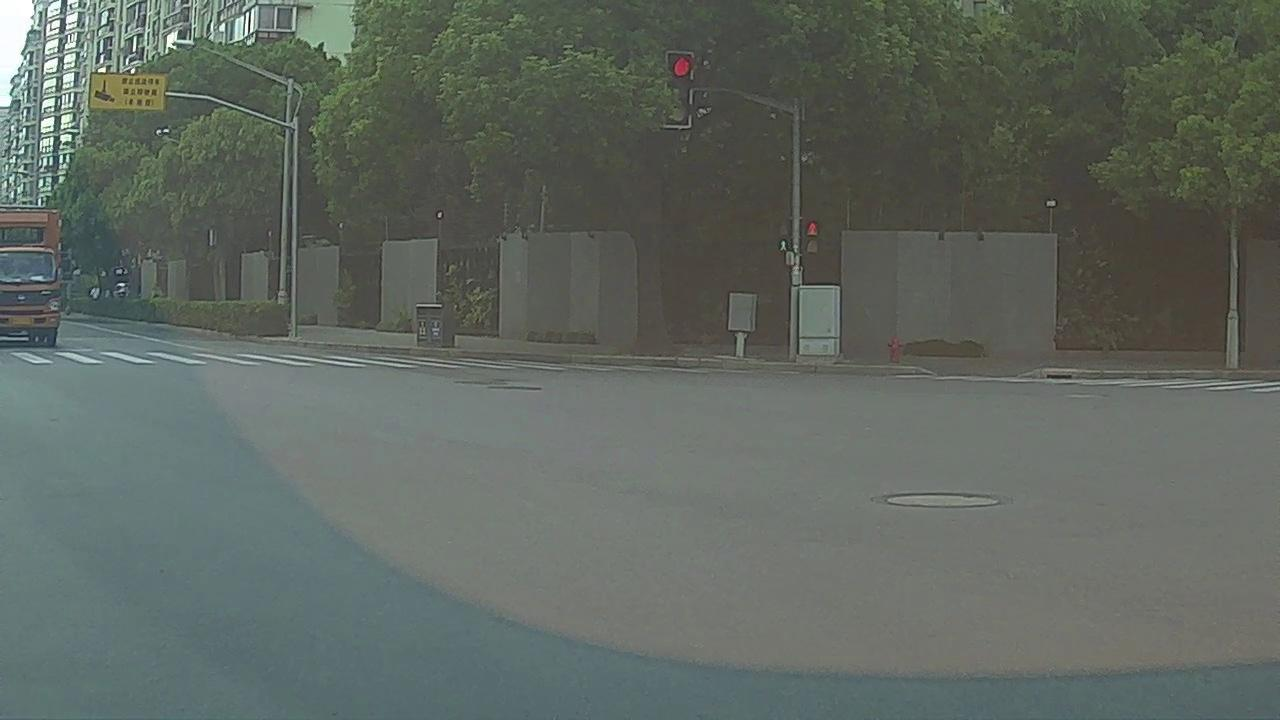traffic_light: (666, 50, 692, 129)
